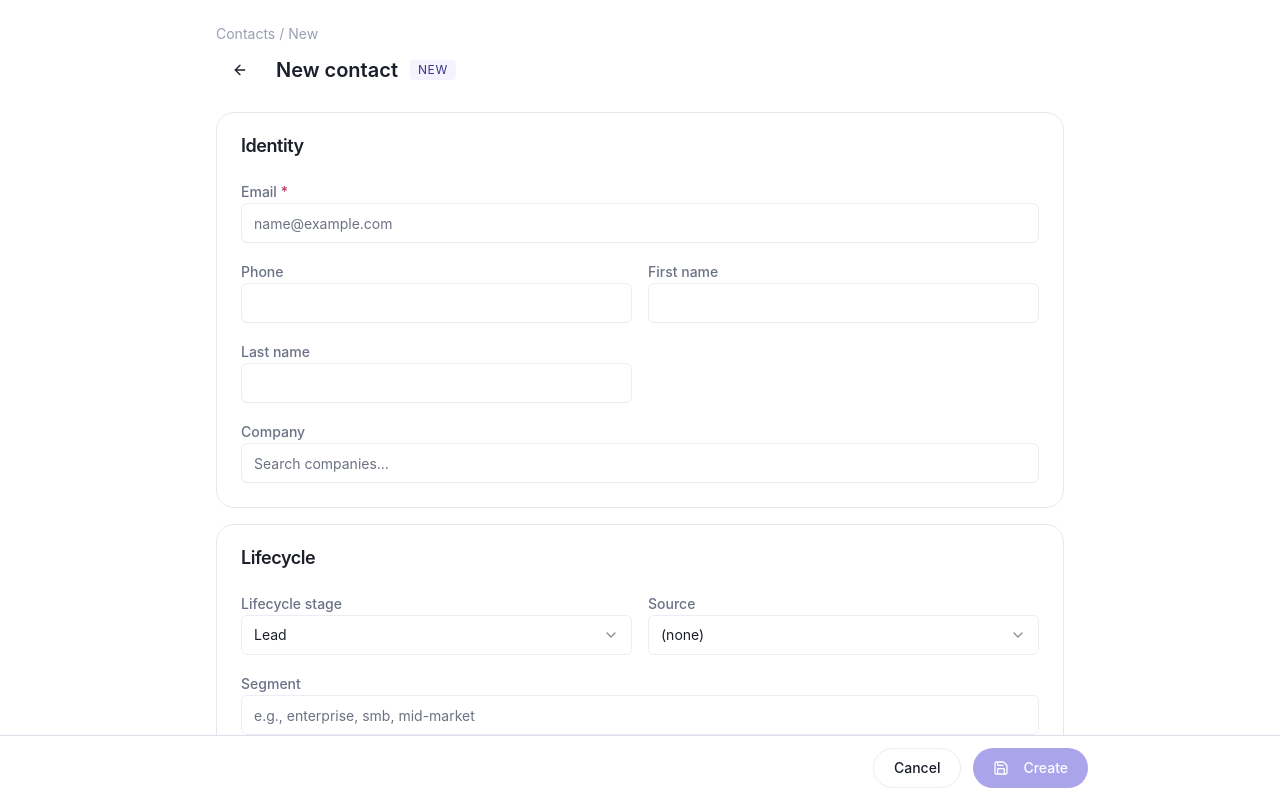
Test: KAN-934 — ContactForm › (10) Server error: rejected mutation → error banner displayed
Type "new@test.local" into the field labelled "Email *".
click(640, 223); type("new@test.local")  # box [241,203,1039,243]
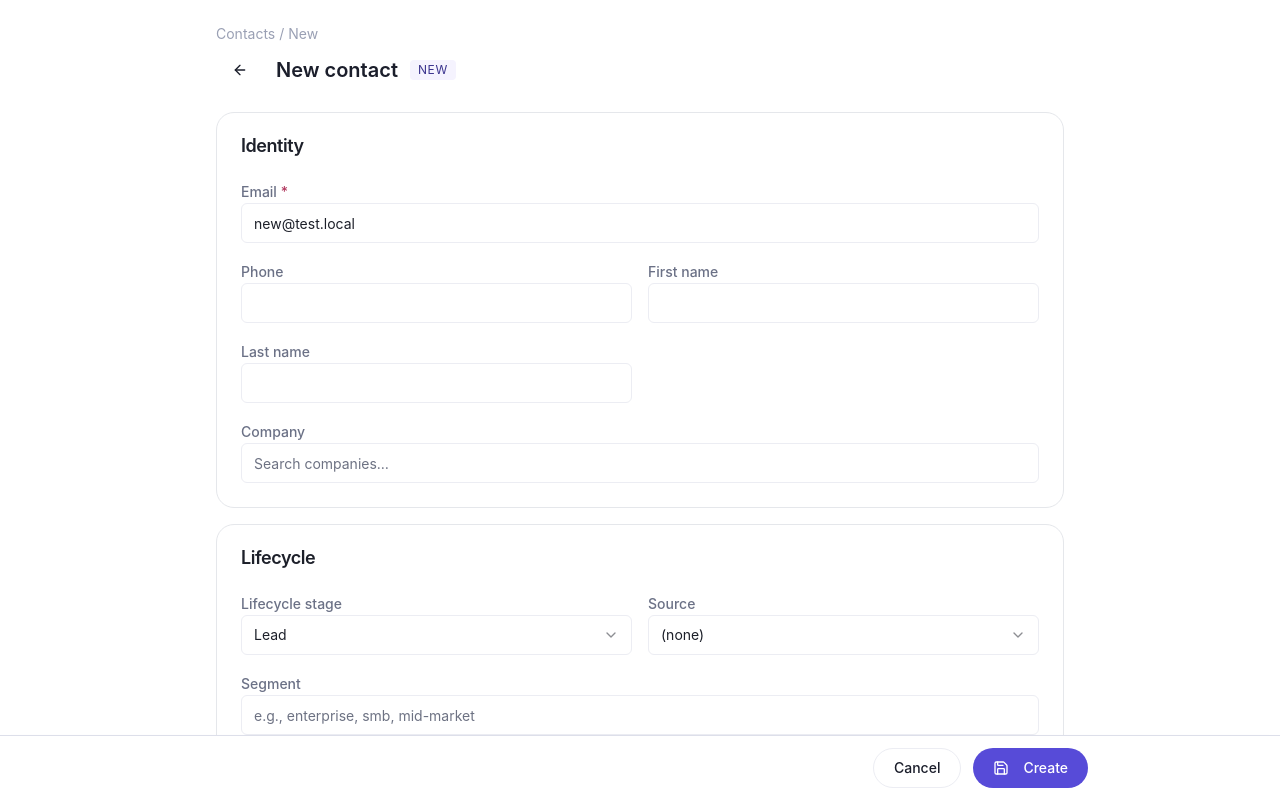
Click the button "Create".
click(1031, 768)  # box [973,748,1088,788]
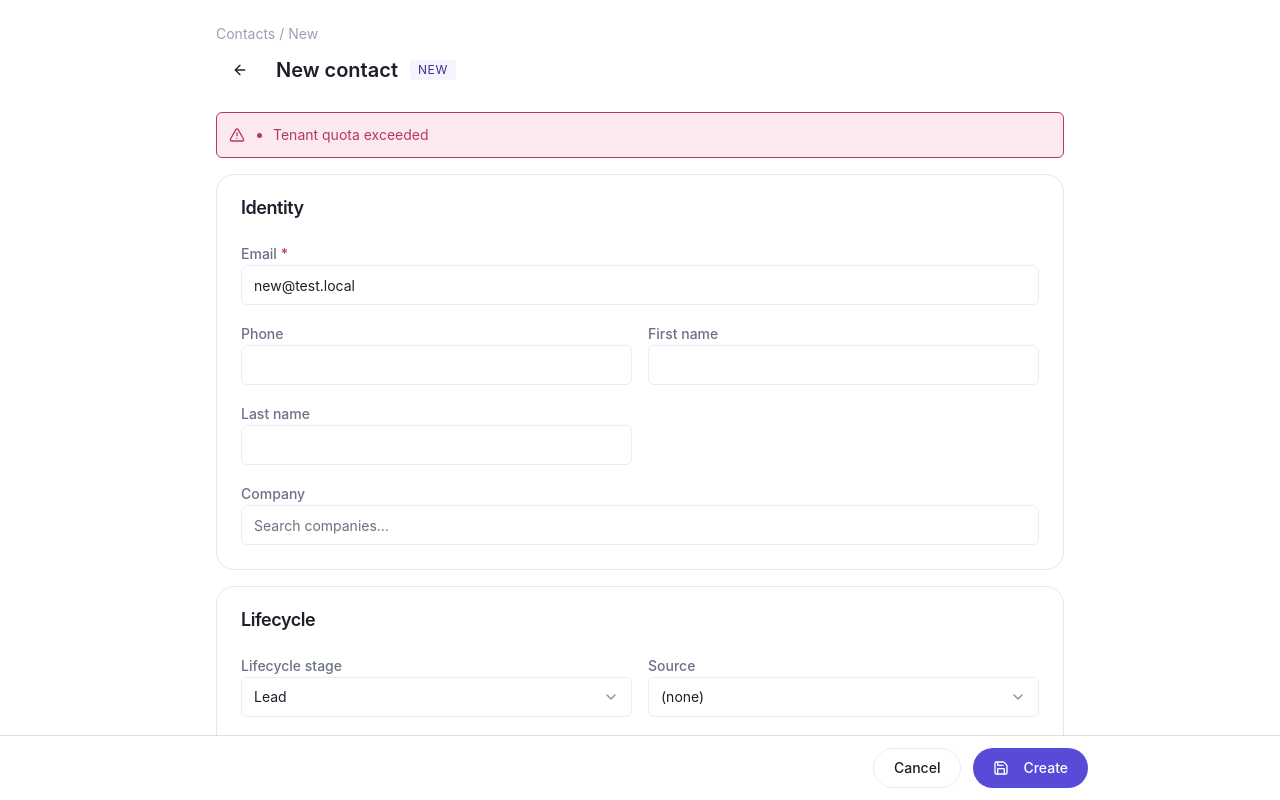
Result: the list item "Tenant quota exceeded" is shown at [273,125,428,145]
